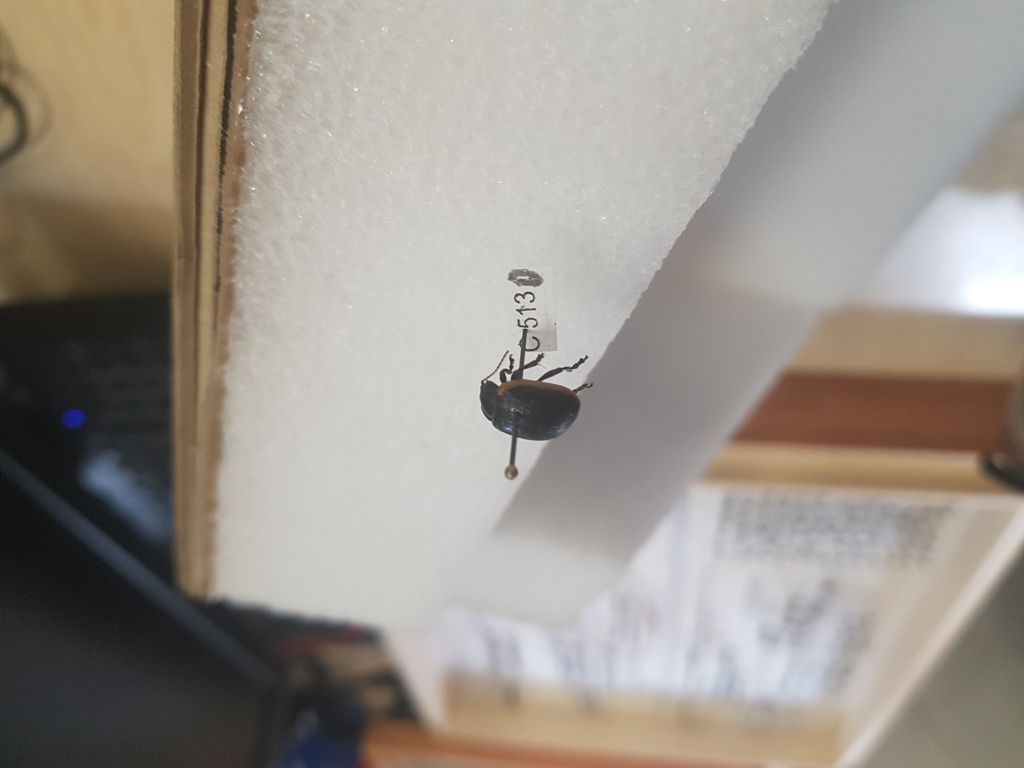Chrysolina_gypsophila: (474, 348, 600, 447)
